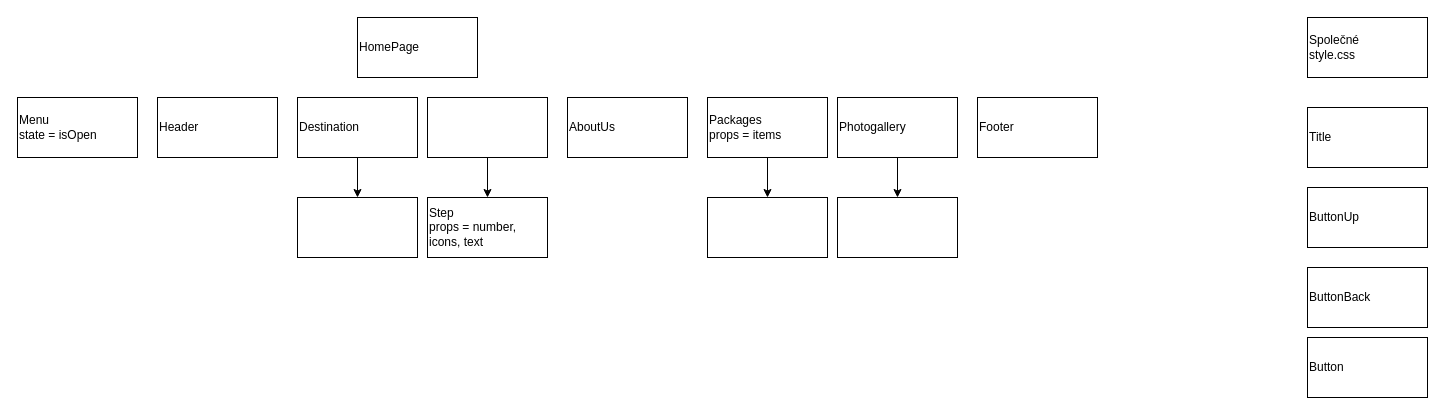
Image size: 1445x415. Some labels were removed from this diagram. Each missing label, with the centre of its shape:
background img x img (component): the point at 357,227
Carousel: the point at 897,227
Package items.map((item) =>...: the point at 767,227
Steps: the point at 487,127
